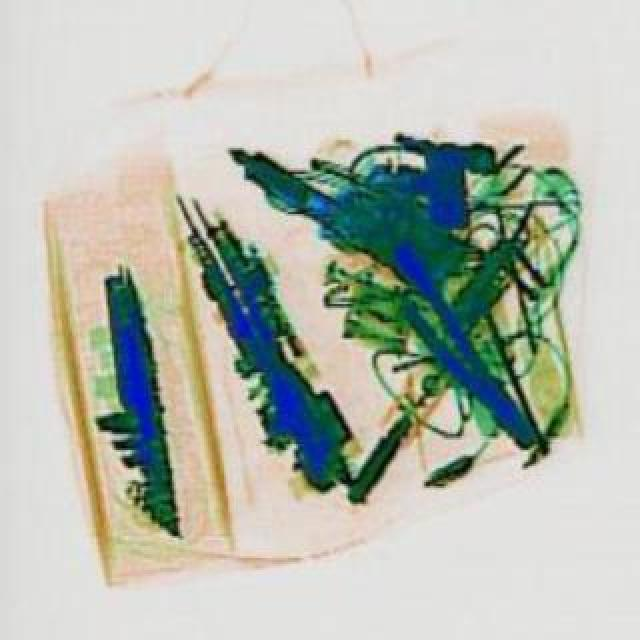wrench: (362, 236, 546, 454)
